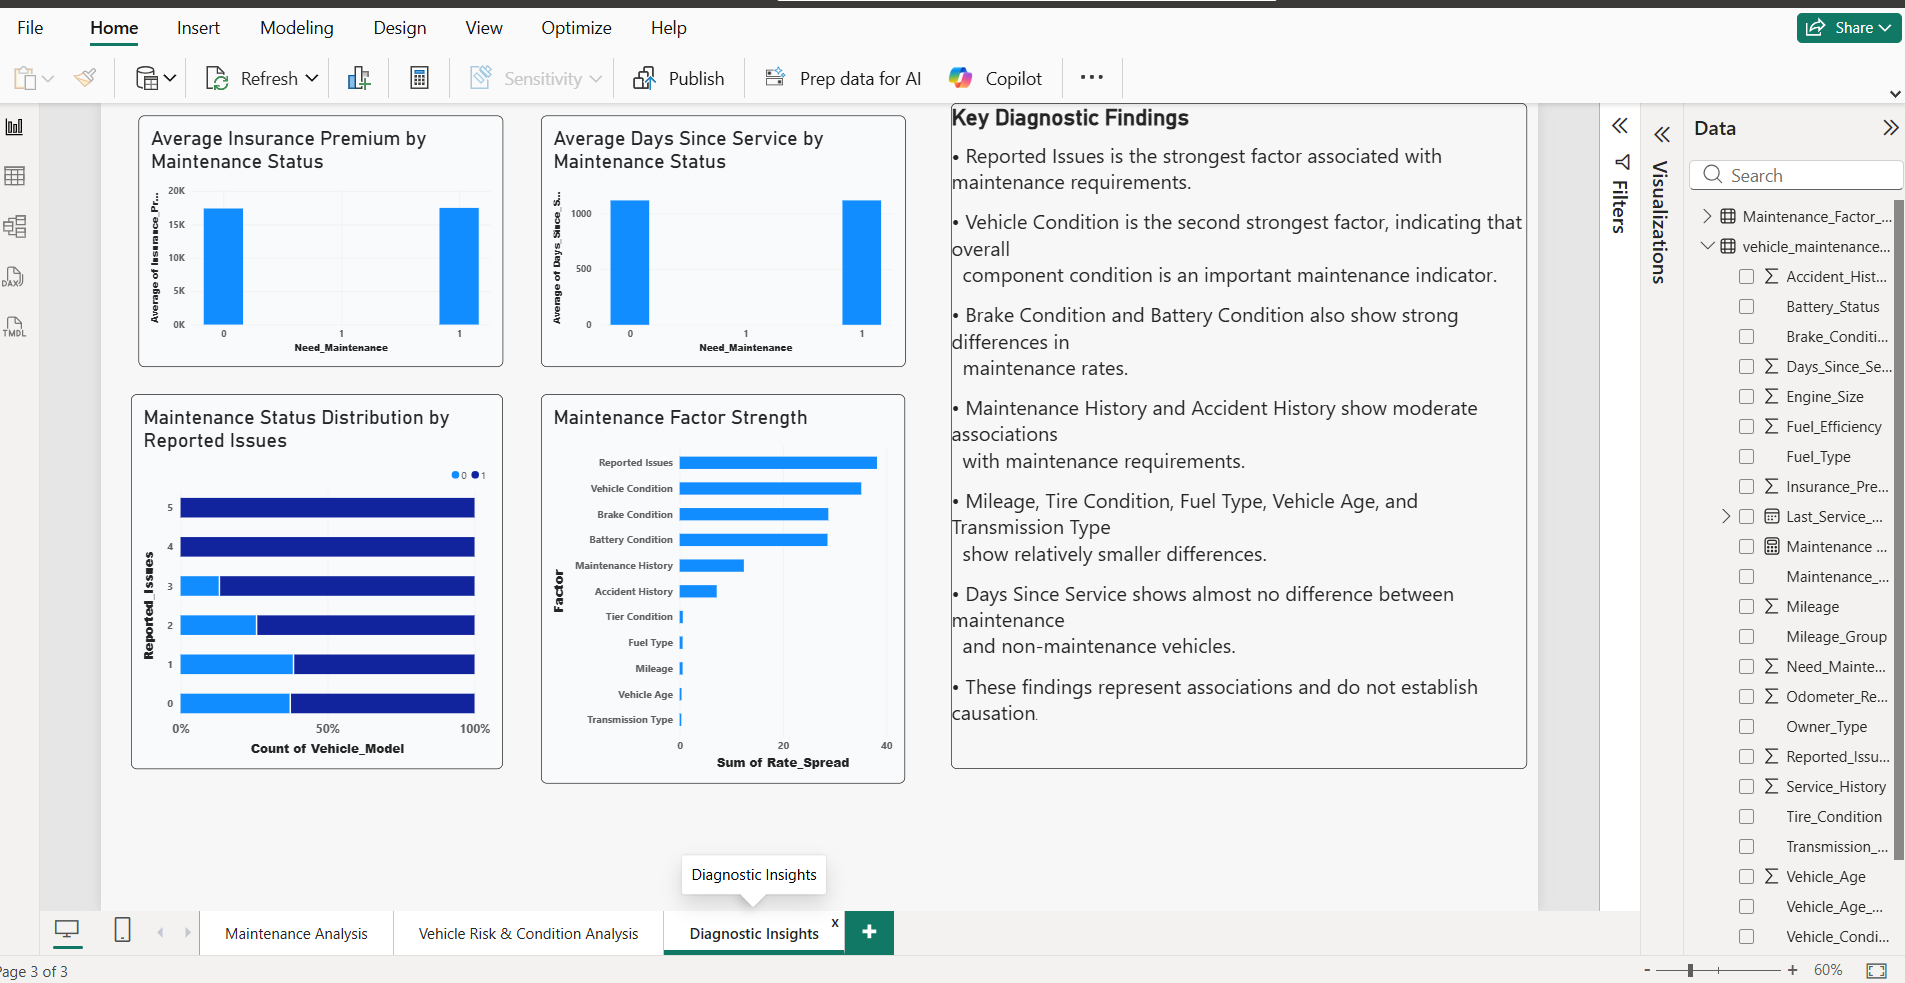

The page's visual inventory and layout, read from the dashboard file:
{"tool":"powerbi","page":{"name":"Diagnostic Insights","canvas":[1920,1080],"ordinal":2},"visuals":[{"type":"clusteredColumnChart","title":"Average Insurance Premium by Maintenance Status","fields":{"Category":["vehicle_maintenance_final.Need_Maintenance"],"Y":["Avg(vehicle_maintenance_final.Insurance_Premium)"]},"box":[50.6,17.4,487.5,335.7],"z":0},{"type":"columnChart","title":"Average Days Since Service by Maintenance Status","fields":{"Category":["vehicle_maintenance_final.Need_Maintenance"],"Y":["Avg(vehicle_maintenance_final.Days_Since_Service)"]},"box":[587.8,17.4,487,336],"z":1000},{"type":"hundredPercentStackedBarChart","title":"Maintenance Status Distribution by Reported Issues","fields":{"Category":["vehicle_maintenance_final.Reported_Issues"],"Series":["vehicle_maintenance_final.Need_Maintenance"],"Y":["CountNonNull(vehicle_maintenance_final.Vehicle_Model)"]},"box":[40.1,389,497.1,500.6],"z":2000},{"type":"clusteredBarChart","title":"Maintenance Factor Strength","fields":{"Category":["Maintenance_Factor_Strength.Factor "],"Y":["Sum(Maintenance_Factor_Strength.Rate_Spread)"]},"box":[587.8,389,486.6,519.8],"z":3000},{"type":"textbox","title":"Key Diagnostic Findings","box":[1135.3,0,769.7,889.4],"z":4000}]}

Visuals, with their boxes on the page's 1920x1080 design canvas (x1, y1, x2, y2). These are canvas units, not pixel positions in the 1905x983 screenshot, which may show the page scaled, cropped or inside an application window:
"Average Insurance Premium by Maintenance Status" clusteredColumnChart: 51:17:538:353
"Average Days Since Service by Maintenance Status" columnChart: 588:17:1075:353
"Maintenance Status Distribution by Reported Issues" hundredPercentStackedBarChart: 40:389:537:890
"Maintenance Factor Strength" clusteredBarChart: 588:389:1074:909
"Key Diagnostic Findings" textbox: 1135:0:1905:889
